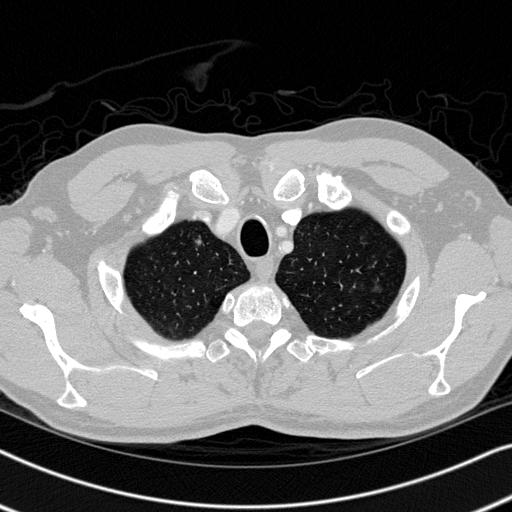nodule: (193, 237, 204, 248)
